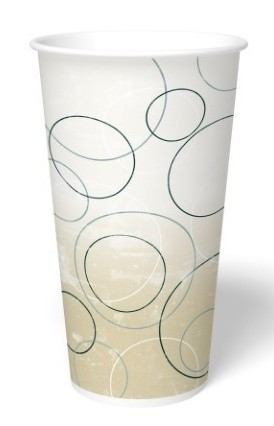plastic_glass: (26, 24, 253, 409)
